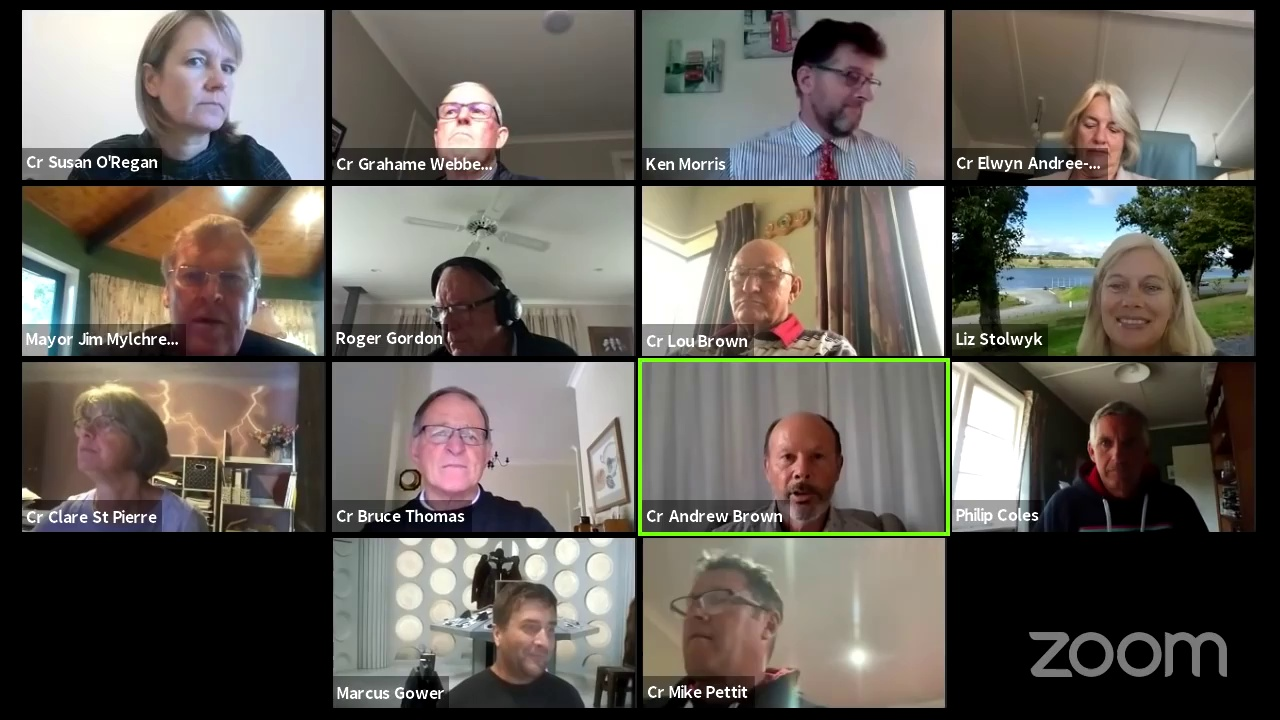Distracted: (798, 25, 884, 134), (69, 384, 149, 483), (494, 580, 557, 687), (426, 270, 506, 350), (1076, 91, 1135, 180)
Not Distracted: (663, 555, 777, 676), (134, 23, 248, 133), (165, 228, 263, 347), (757, 411, 849, 523), (410, 391, 494, 497), (427, 78, 517, 165), (1101, 244, 1180, 339), (1089, 400, 1157, 488), (726, 247, 794, 320)
